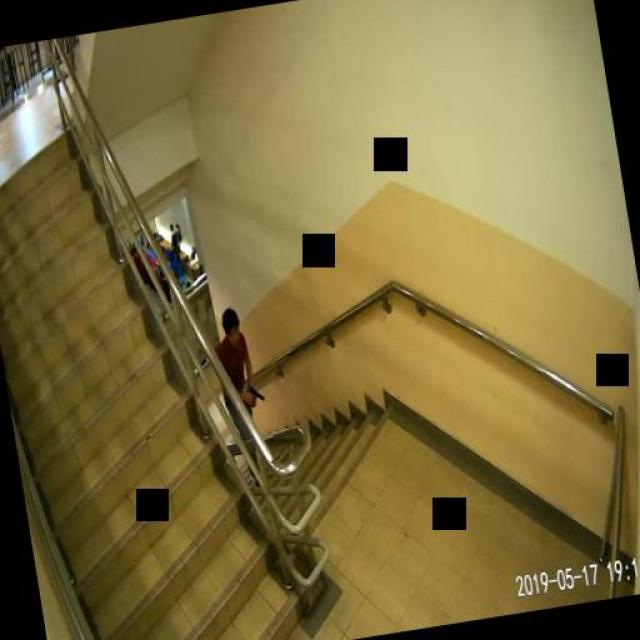gun: (245, 381, 264, 405)
